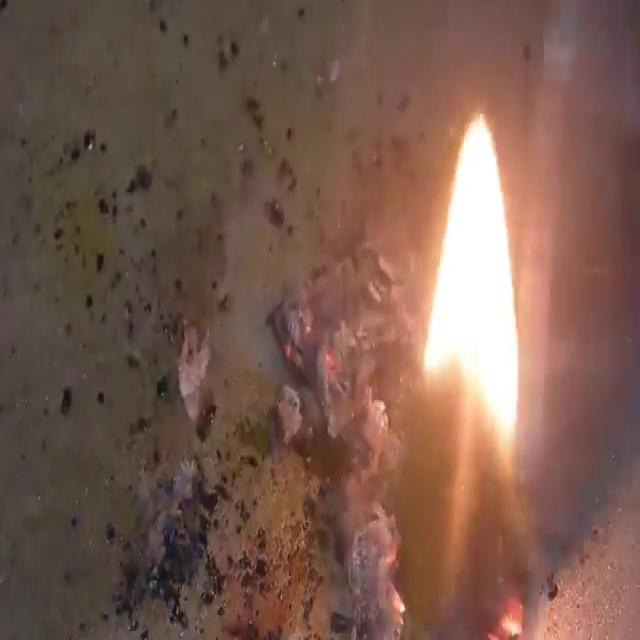Fire: (3, 4, 636, 636), (419, 108, 524, 457)
